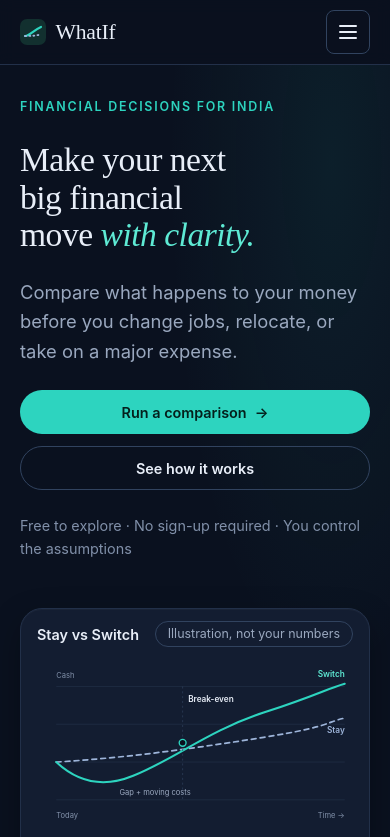
Test: header and footer › toggles the mobile menu accessibly and closes on Escape
Click the button named "Open menu" at (348, 32), box [326,10,370,54]
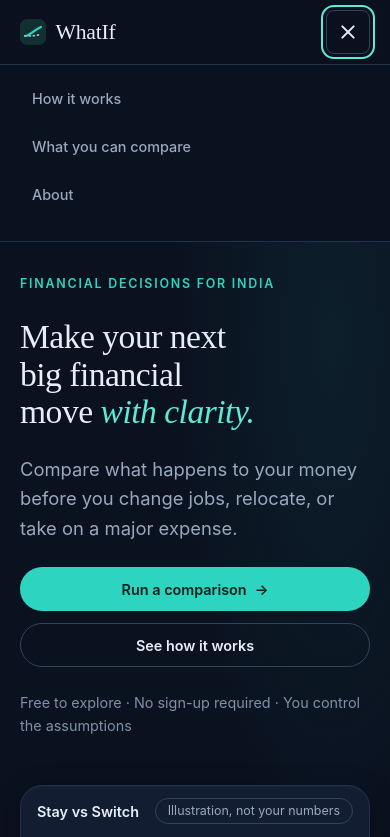
Check: the button named "Close menu" is expanded, box [326,10,370,54]
Check: the navigation bar named "Mobile" is shown, box [32,90,191,204]
Press Escape
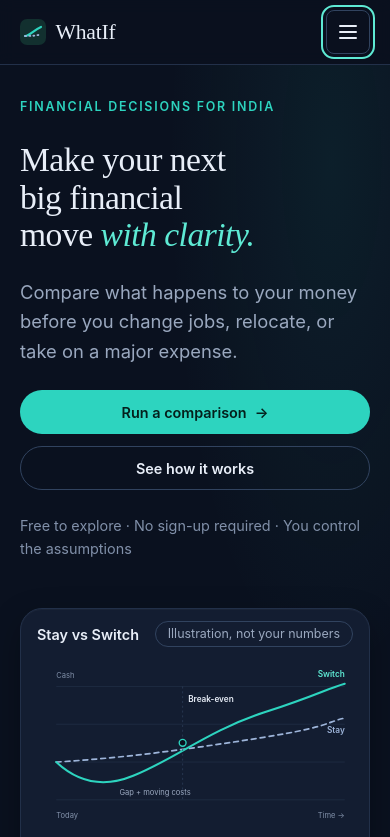
Check: the button named "Open menu" is collapsed, box [326,10,370,54]
